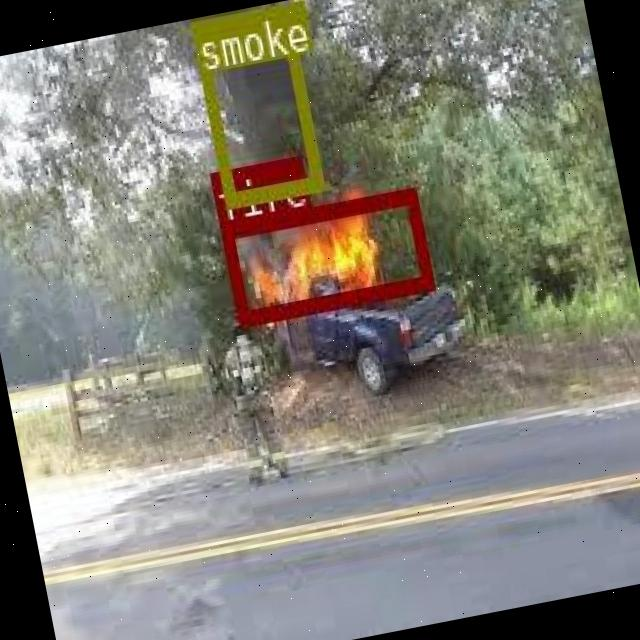fire: (220, 188, 430, 323)
smoke: (190, 2, 322, 204)
